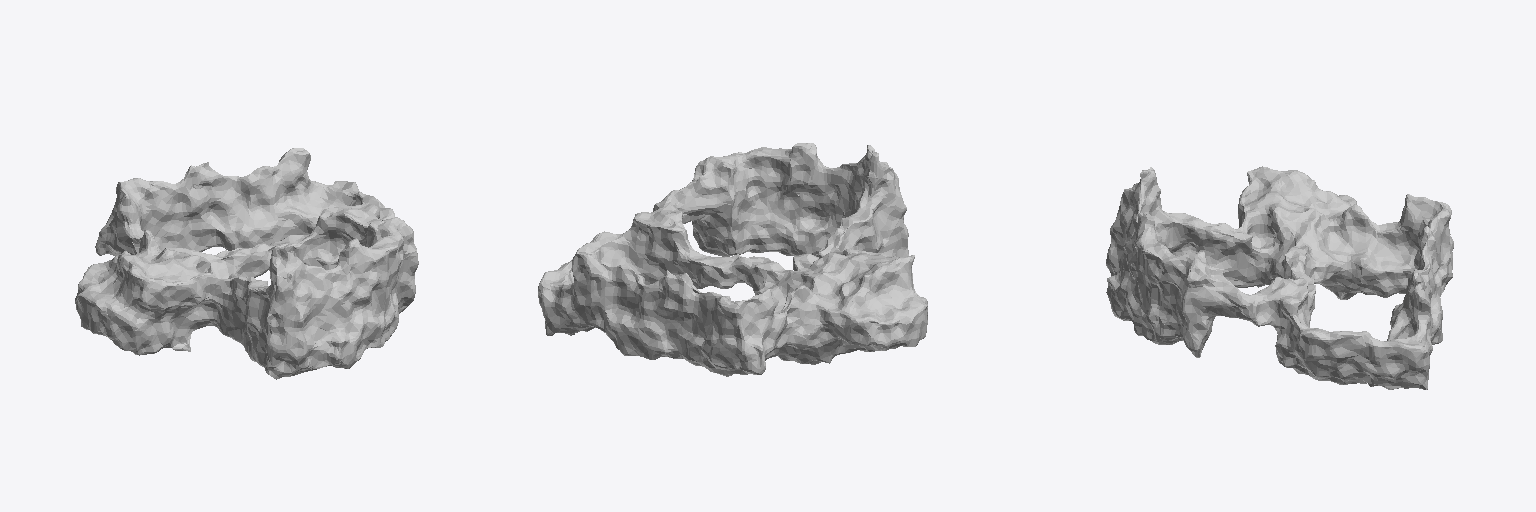
File: rocks_05.obj
3 renders of one model, left to right at view 1: azimuth 30°, elevation 25°; view 2: azimuth 150°, elevation 25°; view 3: azimuth 270°, elevation 25°, orthographic.
Visible parts, largest first — view 1: rocks_05.001; view 2: rocks_05.001; view 3: rocks_05.001.
Part boxes in pixels (x1,y1,x2,y2): rocks_05.001: (75,148,418,379); rocks_05.001: (538,143,927,376); rocks_05.001: (1106,166,1453,389).
Bounding box in the file's own units: 501 × 204 × 466.